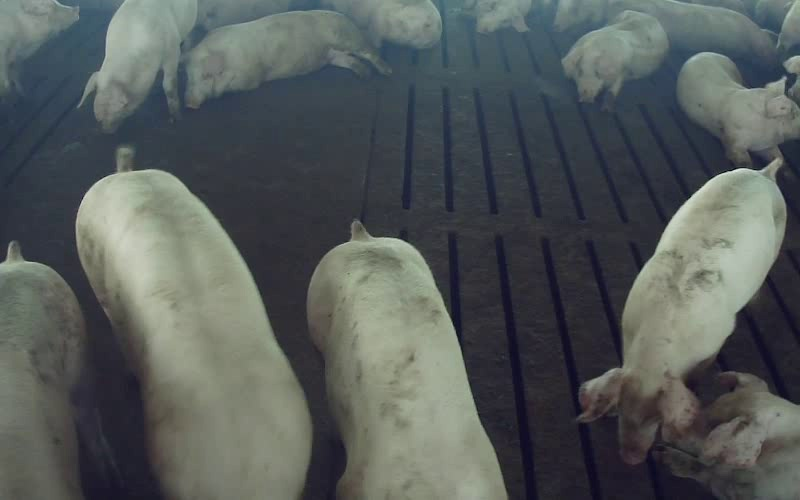pig: (76, 147, 310, 499), (578, 159, 785, 463), (307, 221, 505, 499), (0, 241, 118, 499), (185, 10, 390, 108), (677, 52, 799, 166), (562, 10, 668, 101)
